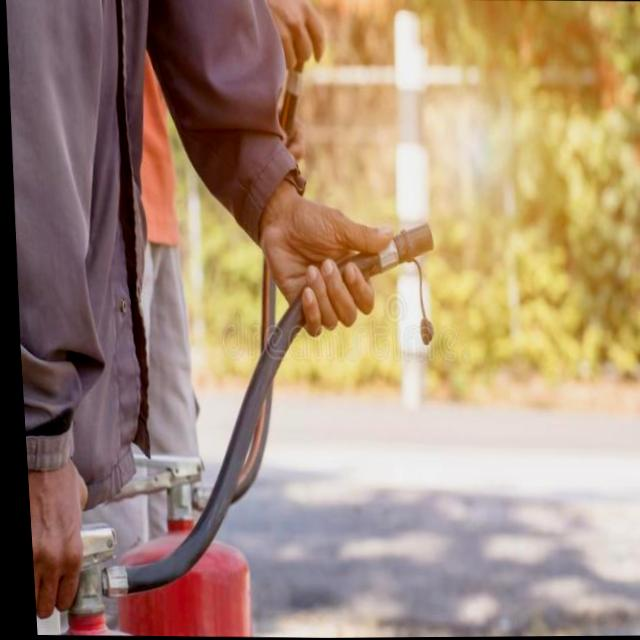FireExtinguisher: (10, 206, 457, 640), (63, 13, 344, 638)
